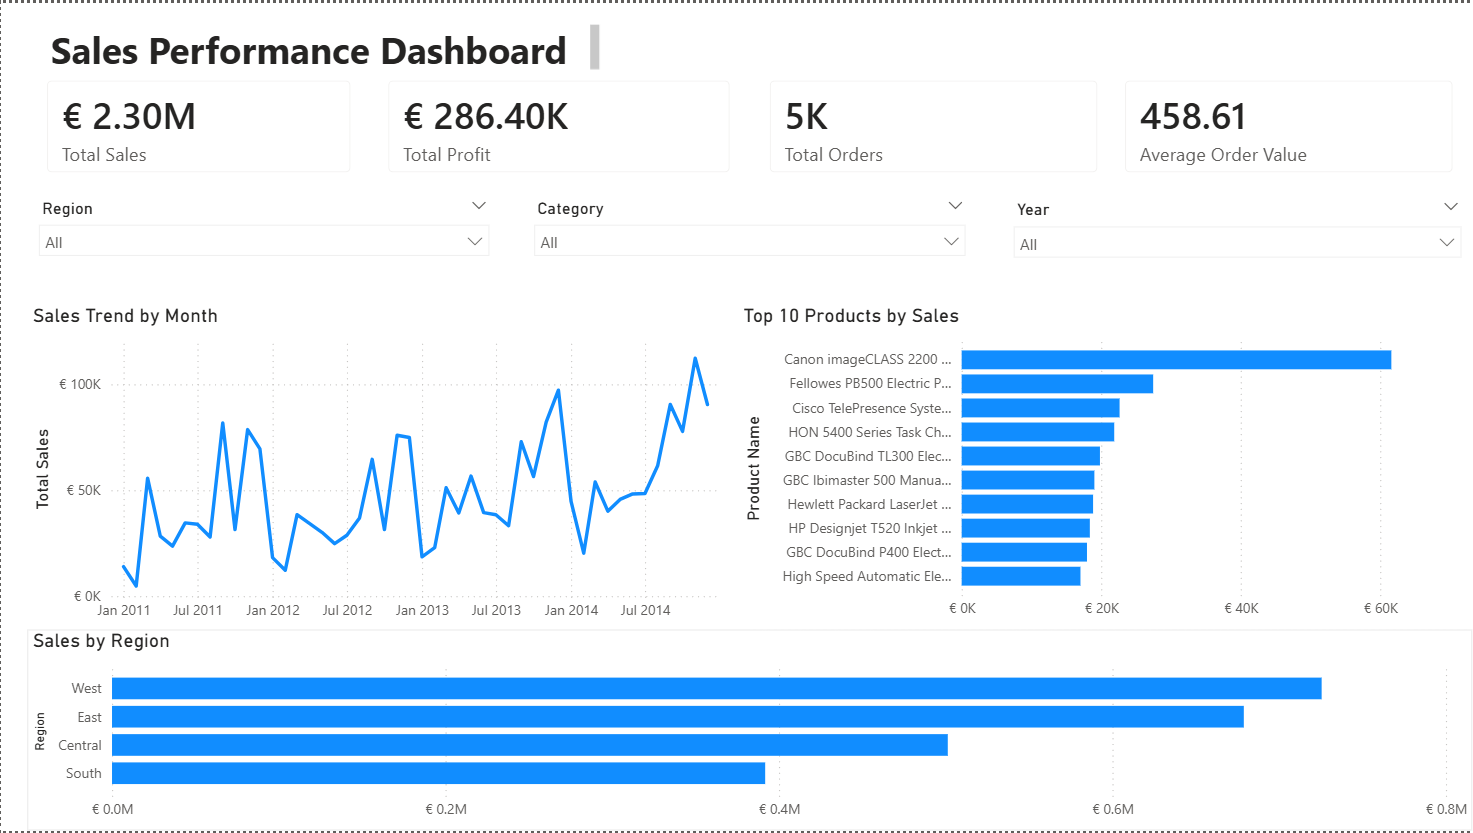

The dashboard page shown, as its layout file describes it:
{"tool":"powerbi","page":{"name":"Sales Performance Dashboard","canvas":[1280,720],"ordinal":0},"visuals":[{"type":"cardVisual","fields":{"Data":["Superstore.Total Sales"]},"box":[22.3,50.5,298.8,114.5],"z":0},{"type":"cardVisual","fields":{"Data":["Superstore.Total Profit"]},"box":[319.6,50.5,331.5,114.5],"z":1000},{"type":"cardVisual","fields":{"Data":["Superstore.Total Orders"]},"box":[651,50.5,319.6,114.5],"z":2000},{"type":"cardVisual","fields":{"Data":["Superstore.Average Order Value"]},"box":[960.2,50.5,319.6,114.5],"z":3000},{"type":"lineChart","title":"Sales Trend by Month","fields":{"Y":["Superstore.Total Sales"],"Category":["Superstore.Order Date.Variation.Date Hierarchy.Year","Superstore.Order Date.Variation.Date Hierarchy.Month"]},"box":[22.3,261.6,618.3,283.9],"z":4000},{"type":"clusteredBarChart","title":"Sales by Region","fields":{"Category":["Superstore.Region"],"Y":["Superstore.Total Sales"]},"box":[22.3,545.5,1257.5,173.9],"z":5000},{"type":"clusteredBarChart","title":"Top 10 Products by Sales","fields":{"Category":["Superstore.Product Name"],"Y":["Superstore.Total Sales"]},"box":[640.6,261.6,639.2,282.4],"z":6000},{"type":"slicer","fields":{"Values":["Superstore.Region"]},"box":[22.3,165,411.7,72.8],"z":7000},{"type":"slicer","fields":{"Values":["Superstore.Category"]},"box":[453.4,165,395.4,81.8],"z":8000},{"type":"slicer","fields":{"Values":["Superstore.Order Date.Variation.Date Hierarchy.Year"]},"box":[870.4,165.9,409.3,80.7],"z":9000},{"type":"textbox","box":[38.6,13.4,487.5,50.5],"z":10000}]}

Visuals, with their boxes in screenshot pixels (x1, y1, x2, y2), scaled from the page's 1280x720 canvas onto the 1473x833 screenshot:
cardVisual - Superstore.Total Sales: crop(26, 58, 370, 191)
cardVisual - Superstore.Total Profit: crop(368, 58, 749, 191)
cardVisual - Superstore.Total Orders: crop(749, 58, 1117, 191)
cardVisual - Superstore.Average Order Value: crop(1105, 58, 1472, 191)
"Sales Trend by Month" lineChart: crop(26, 303, 737, 631)
"Sales by Region" clusteredBarChart: crop(26, 631, 1472, 832)
"Top 10 Products by Sales" clusteredBarChart: crop(737, 303, 1472, 629)
slicer - Superstore.Region: crop(26, 191, 499, 275)
slicer - Superstore.Category: crop(522, 191, 977, 286)
slicer - Superstore.Order Date.Variation.Date Hierarchy.Year: crop(1002, 192, 1472, 285)
textbox: crop(44, 16, 605, 74)
